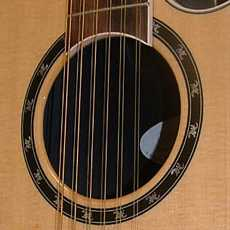guitar: (1, 1, 230, 230)
